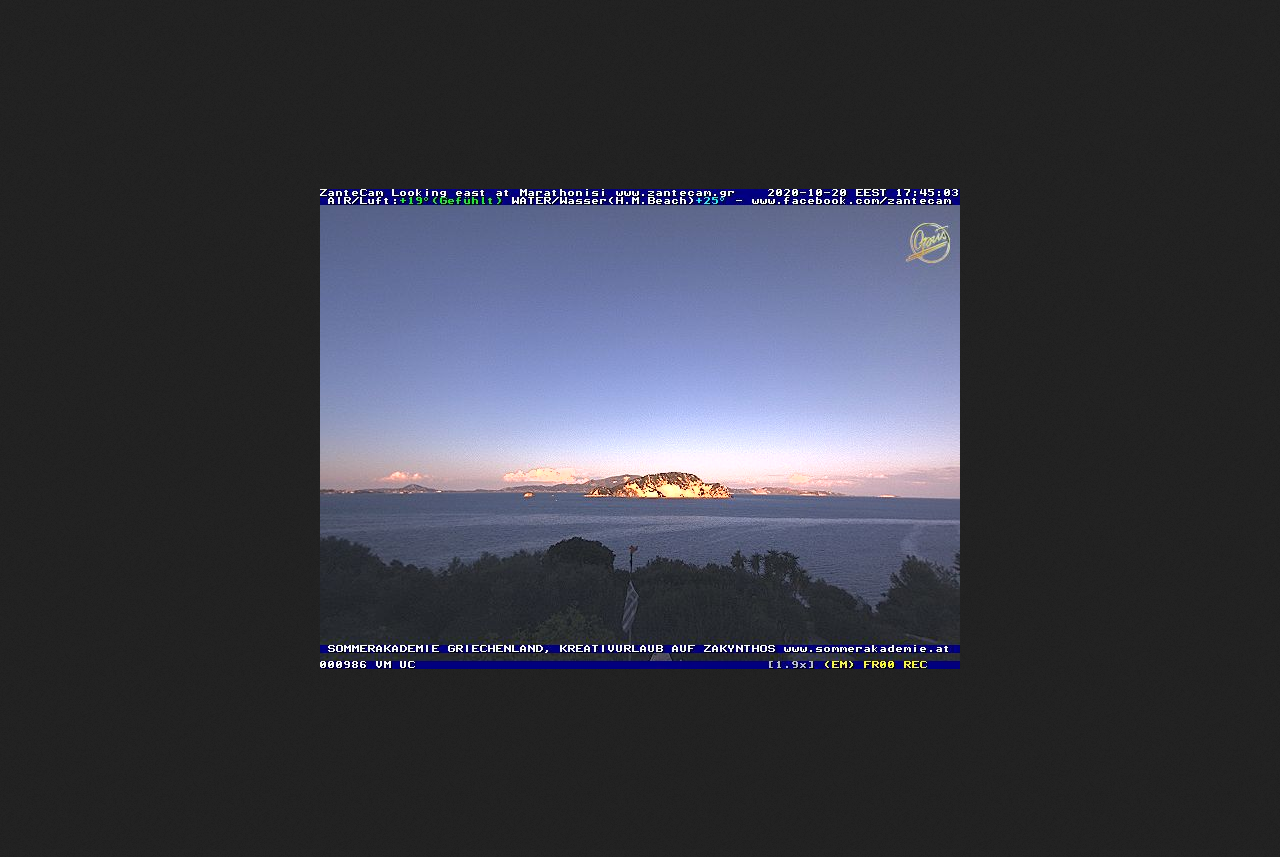no: (619, 577, 643, 636)
